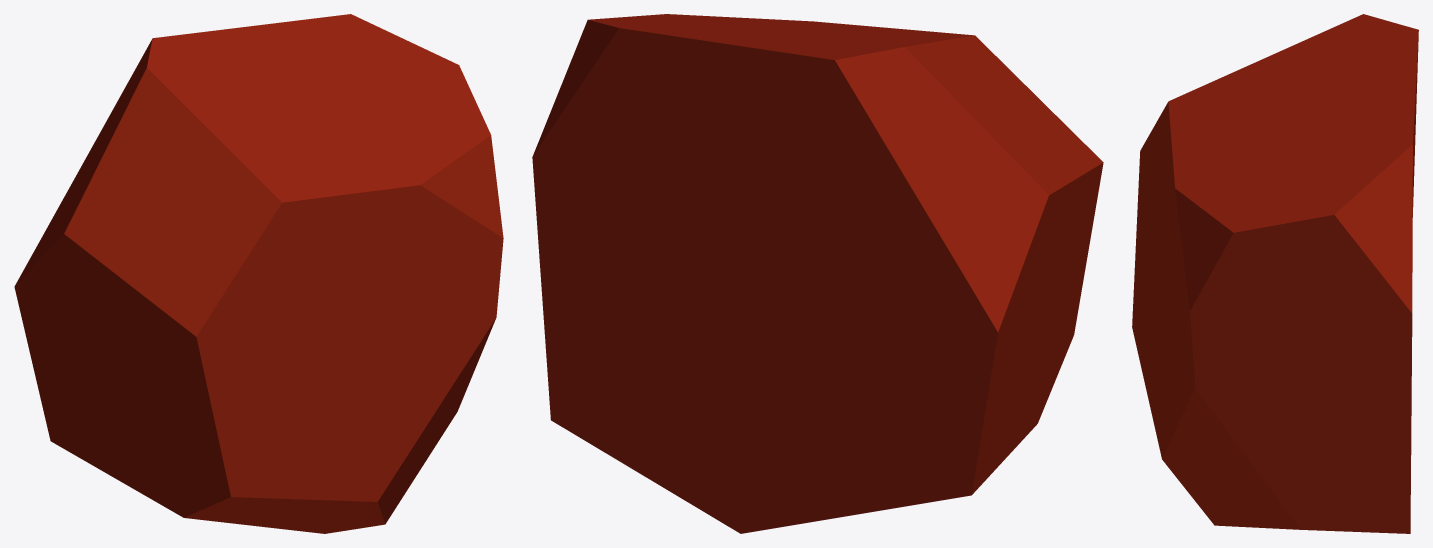
Rendered from SM_Simple_Rock_05.fbx.
The picture shows the model from 3 angles, left to right: view 1: azimuth 30°, elevation 25°; view 2: azimuth 150°, elevation 25°; view 3: azimuth 270°, elevation 25°; orthographic projection. The views are drawn at different scales.
Visible parts, largest first — view 1: SM_Simple_Rock_05; view 2: SM_Simple_Rock_05; view 3: SM_Simple_Rock_05.
Boxes of the visible parts, x1,y1,x2,y2 form: SM_Simple_Rock_05: (14,14,503,533); SM_Simple_Rock_05: (532,14,1103,533); SM_Simple_Rock_05: (1132,14,1418,533).
Size of the model in its own units: 16.7 by 17.34 by 10.17.
